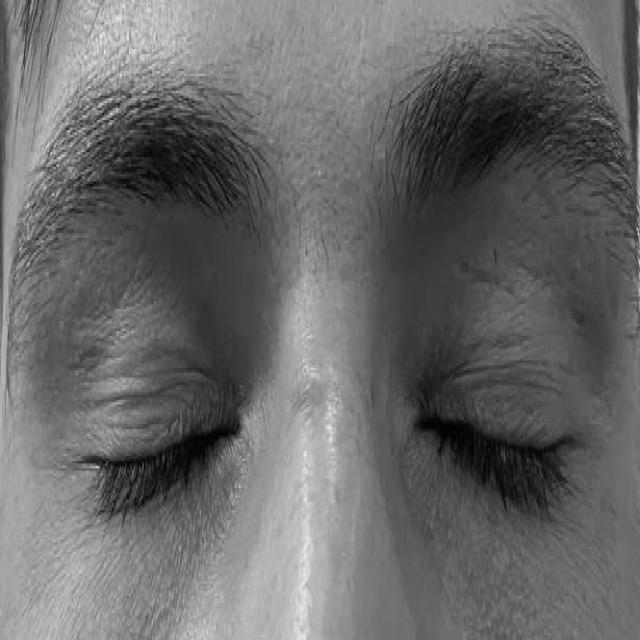real: (6, 146, 634, 604)
